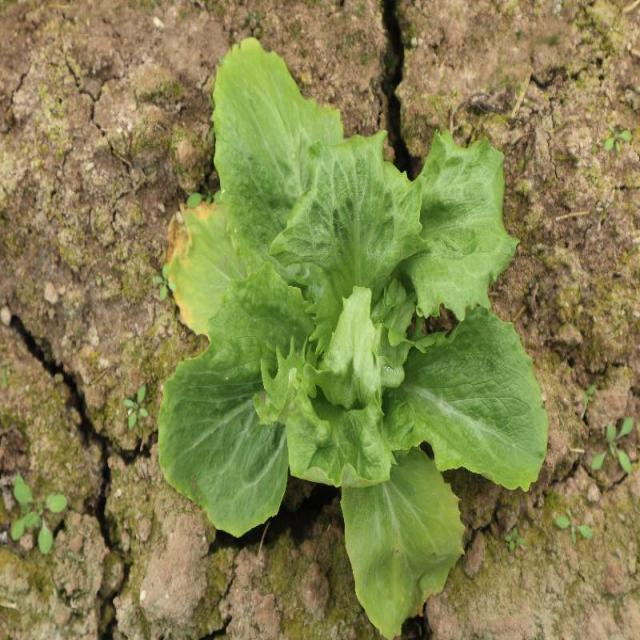crop: (159, 40, 548, 635)
